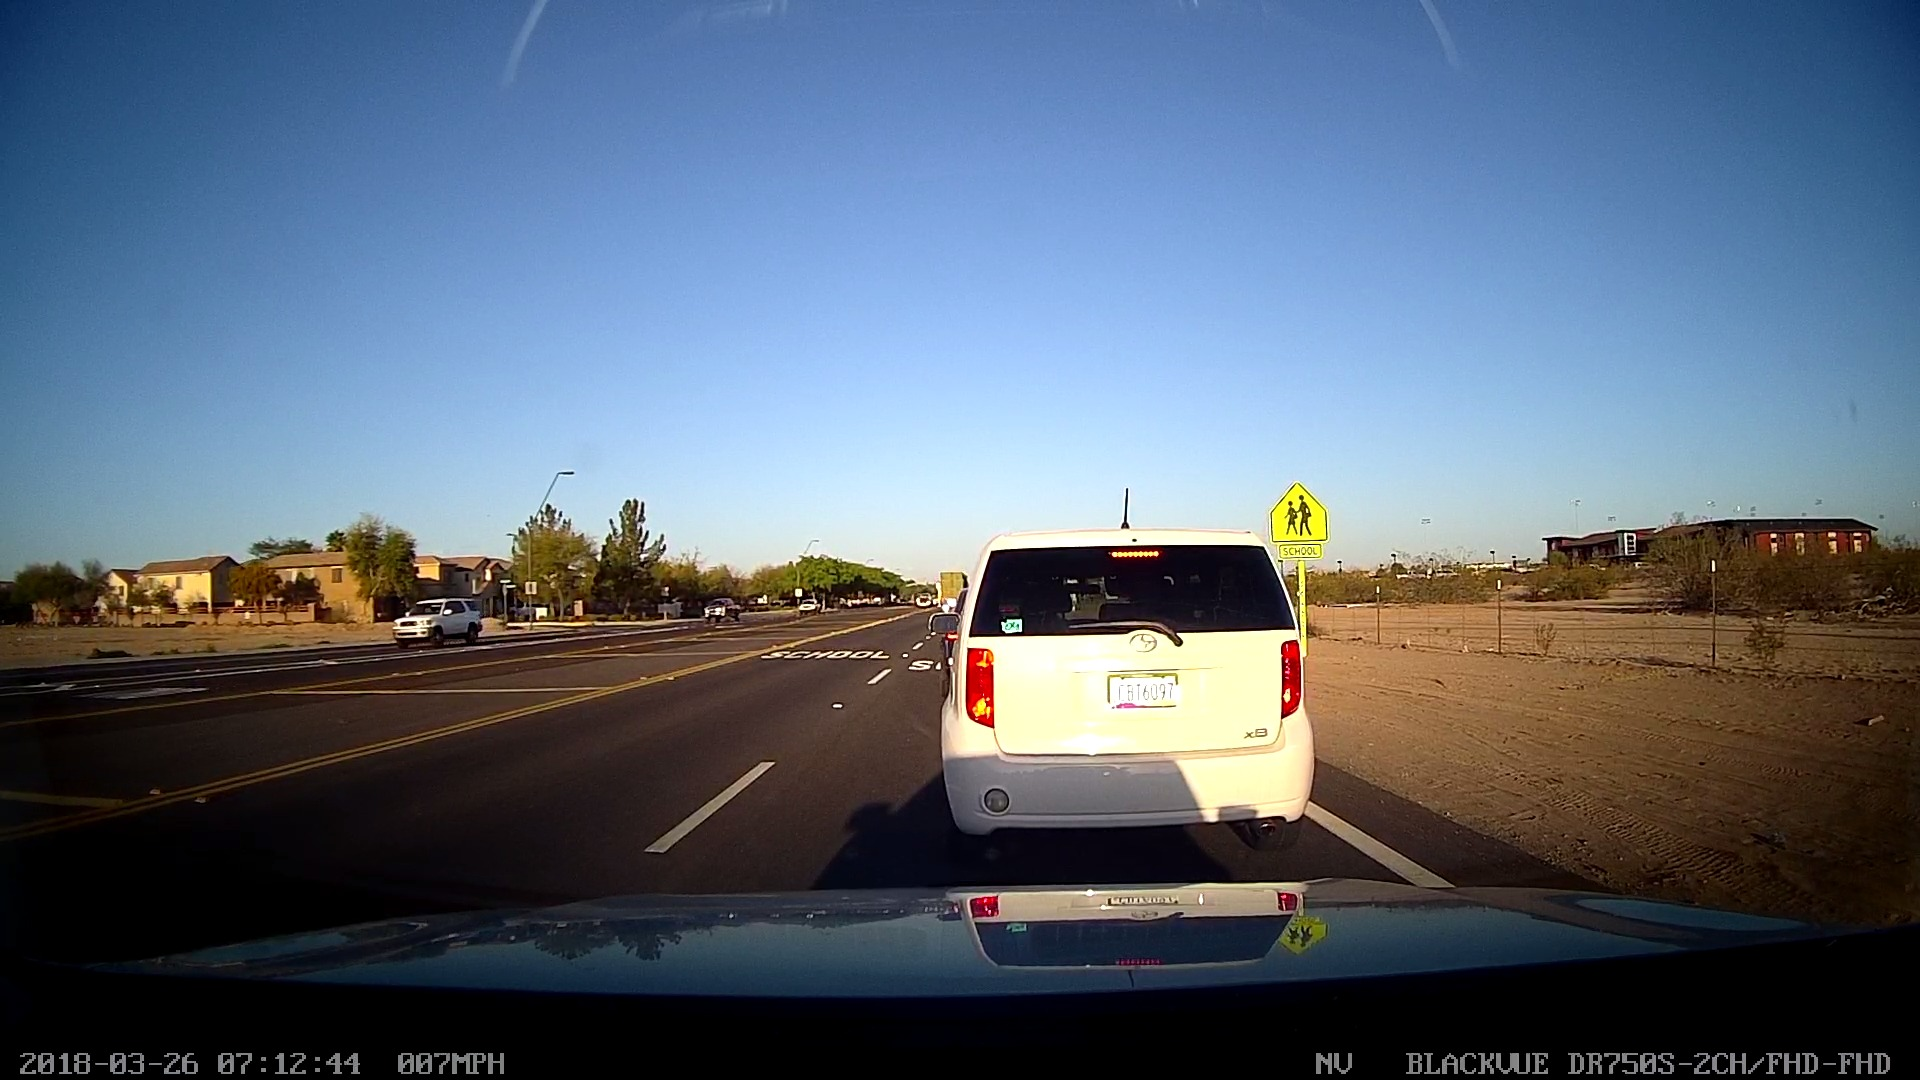plate: (1094, 662, 1185, 718)
vehicle: (924, 520, 1328, 861), (384, 585, 484, 655), (702, 588, 743, 623)
